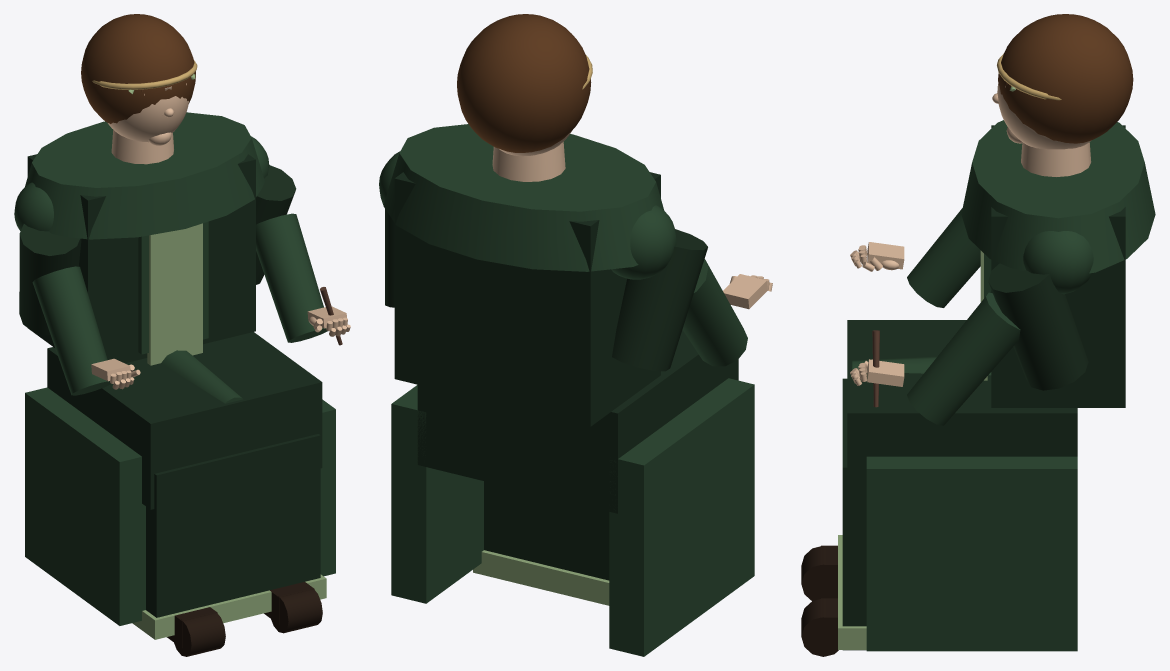
The model's file is adv_keeper.glb.
The picture shows the model from 3 angles, left to right: view 1: azimuth 30°, elevation 25°; view 2: azimuth 150°, elevation 25°; view 3: azimuth 270°, elevation 25°; orthographic projection. The views are drawn at different scales.
Visible parts, largest first — view 1: LowerBodyRobes, TorsoAssembly, HeadAssembly, RightArmAssembly, Cranium, LeftHand, RightHand; view 2: TorsoAssembly, LowerBodyRobes, HeadAssembly, RightArmAssembly, LeftHand; view 3: LowerBodyRobes, TorsoAssembly, RightArmAssembly, HeadAssembly, LeftHand, Cranium, RightHand.
Boxes of the visible parts, x1=… form: LowerBodyRobes: x1=25, y1=332, x2=335, y2=656; TorsoAssembly: x1=14, y1=112, x2=264, y2=395; HeadAssembly: x1=81, y1=14, x2=197, y2=145; RightArmAssembly: x1=251, y1=136, x2=342, y2=345; Cranium: x1=108, y1=96, x2=188, y2=142; LeftHand: x1=91, y1=358, x2=140, y2=389; RightHand: x1=307, y1=306, x2=350, y2=336; TorsoAssembly: x1=383, y1=124, x2=747, y2=426; LowerBodyRobes: x1=391, y1=330, x2=754, y2=656; HeadAssembly: x1=457, y1=14, x2=592, y2=152; RightArmAssembly: x1=379, y1=151, x2=399, y2=307; LeftHand: x1=723, y1=274, x2=772, y2=309; LowerBodyRobes: x1=801, y1=320, x2=1077, y2=656; TorsoAssembly: x1=907, y1=120, x2=1155, y2=407; RightArmAssembly: x1=872, y1=231, x2=1093, y2=425; HeadAssembly: x1=992, y1=14, x2=1133, y2=143; LeftHand: x1=850, y1=242, x2=904, y2=271; Cranium: x1=997, y1=84, x2=1091, y2=149; RightHand: x1=850, y1=359, x2=904, y2=386.
Size of the model in its own units: 0.7212 by 1.38 by 0.7385.
